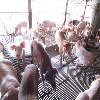heo: (31, 41, 63, 90), (1, 57, 18, 100), (55, 30, 74, 65), (74, 38, 96, 68), (22, 63, 38, 100), (9, 39, 29, 67), (14, 20, 28, 35), (33, 30, 48, 44)
